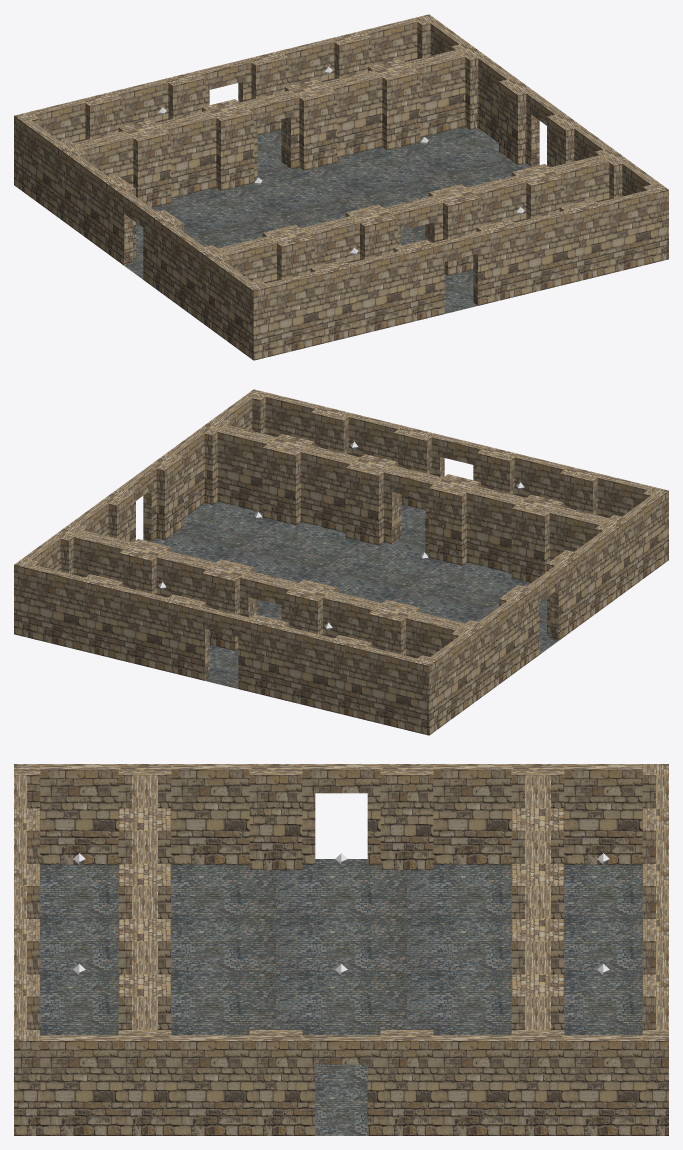
The model's file is 1_5by5KeyMixer.fbx.
The picture shows the model from 3 angles, top to bottom: view 1: azimuth 30°, elevation 25°; view 2: azimuth 150°, elevation 25°; view 3: azimuth 270°, elevation 25°; orthographic projection. The views are drawn at different scales.
Visible parts, largest first — view 1: Cube_1, Plane; view 2: Cube_1, Plane; view 3: Cube_1, Plane.
Boxes of the visible parts, bbox=[...] form: Cube_1: bbox=[14, 14, 668, 360]; Plane: bbox=[125, 126, 539, 313]; Cube_1: bbox=[14, 389, 668, 735]; Plane: bbox=[143, 501, 557, 688]; Cube_1: bbox=[14, 764, 668, 1135]; Plane: bbox=[40, 859, 642, 1135].
Bounding box in the file's own units: 50 × 8 × 50.
Materials: 3 (3 with a texture image).
